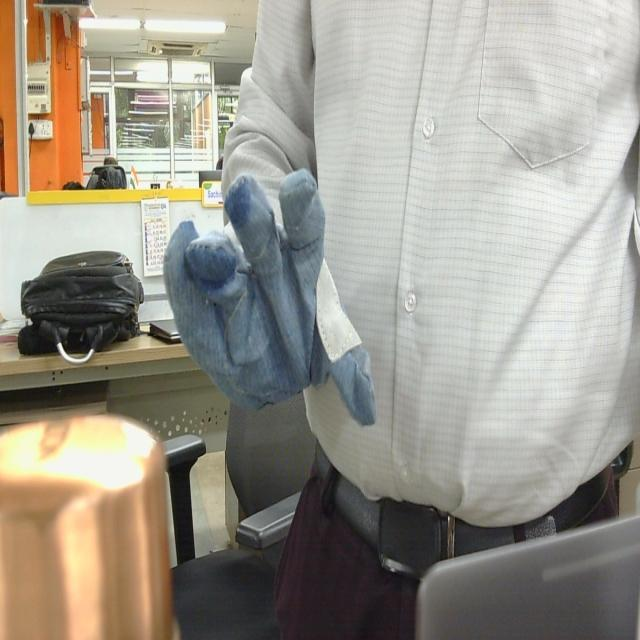Gloves-Detection: (161, 170, 380, 438)
